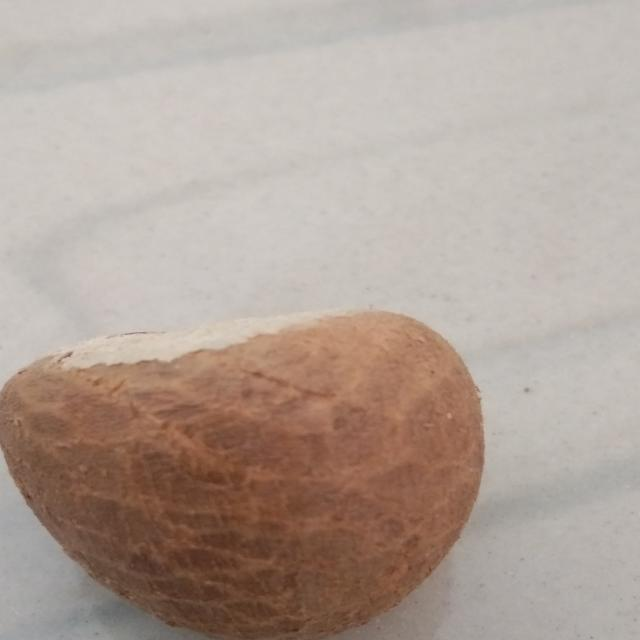good: (0, 300, 509, 634)
